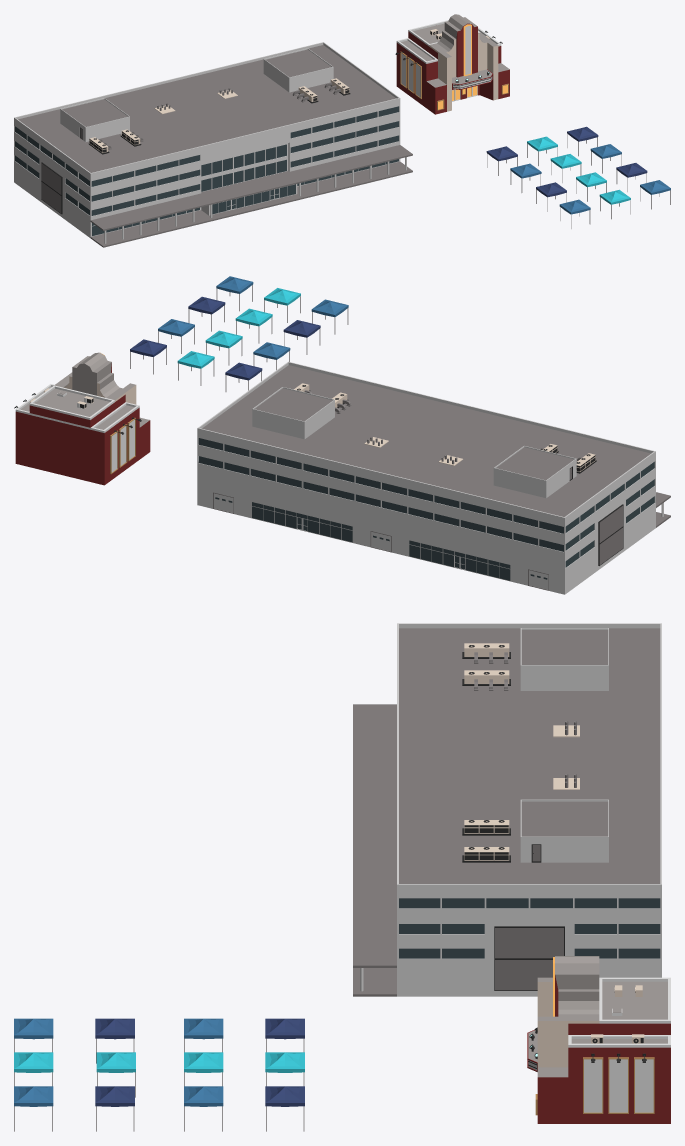
The model's file is events-buildings.glb.
The picture shows the model from 3 angles, top to bottom: view 1: azimuth 30°, elevation 25°; view 2: azimuth 150°, elevation 25°; view 3: azimuth 270°, elevation 25°; orthographic projection. The views are drawn at different scales.
Parts seen in each view (by area): view 1: airport-terminal, building-cinema, tent-party.017, tent-party.015, tent-party.018, tent-party.025; view 2: airport-terminal, building-cinema, tent-party.024, tent-party.001, tent-party.025, tent-party.008, tent-party.015, tent-party.018, tent-party.019, tent-party.016, tent-party.020, tent-party.017 (+2 smaller); view 3: airport-terminal, building-cinema, tent-party.018, tent-party.020, tent-party.008, tent-party.019, tent-party.021, tent-party.016, tent-party.024, tent-party.001, tent-party.015, tent-party.017 (+2 smaller).
Part boxes in pixels (x1,y1,x2,y2): airport-terminal: (14, 42, 412, 247); building-cinema: (395, 14, 509, 114); tent-party.017: (510, 163, 541, 192); tent-party.015: (559, 199, 590, 228); tent-party.018: (616, 163, 647, 191); tent-party.025: (550, 154, 581, 182); airport-terminal: (197, 361, 670, 594); building-cinema: (14, 352, 150, 485); tent-party.024: (177, 351, 214, 385); tent-party.001: (235, 308, 272, 343); tent-party.025: (205, 330, 242, 365); tent-party.008: (283, 320, 320, 354); tent-party.015: (311, 299, 348, 334); tent-party.018: (188, 296, 225, 331); tent-party.019: (216, 276, 253, 311); tent-party.016: (225, 362, 262, 391); tent-party.020: (130, 339, 166, 374); tent-party.017: (253, 342, 290, 369); airport-terminal: (353, 623, 661, 996); building-cinema: (527, 956, 670, 1123); tent-party.018: (95, 1086, 134, 1131); tent-party.020: (265, 1086, 304, 1131); tent-party.008: (95, 1018, 134, 1063); tent-party.019: (14, 1086, 53, 1131); tent-party.021: (184, 1086, 223, 1131); tent-party.016: (265, 1018, 304, 1052); tent-party.024: (265, 1052, 304, 1086); tent-party.001: (96, 1052, 135, 1097); tent-party.015: (14, 1018, 53, 1052); tent-party.017: (184, 1018, 223, 1052).
Size of the model in its own units: 91.63 by 14.58 by 64.08.
